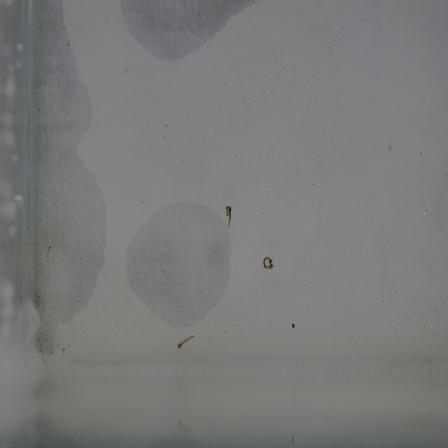Jentik-Nyamuk: (174, 331, 196, 357), (259, 249, 279, 277), (220, 201, 239, 229)
